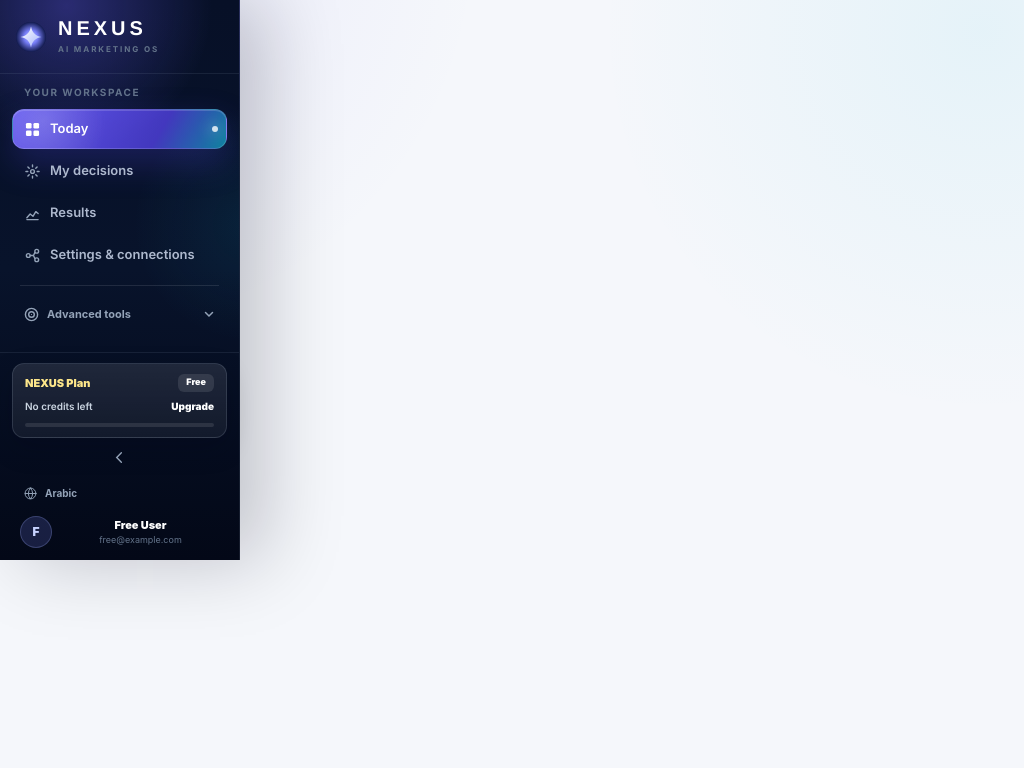
Sidebar credit presentation › keeps owner decisions primary and specialist workflows behind a disclosure
Expected: the text "Today" is shown, top-left (50, 120), bottom-right (88, 136)
Expected: the text "My decisions" is shown, top-left (50, 162), bottom-right (133, 178)
Click the button "Advanced tools" at (120, 314), box top-left (12, 296), bottom-right (227, 332)
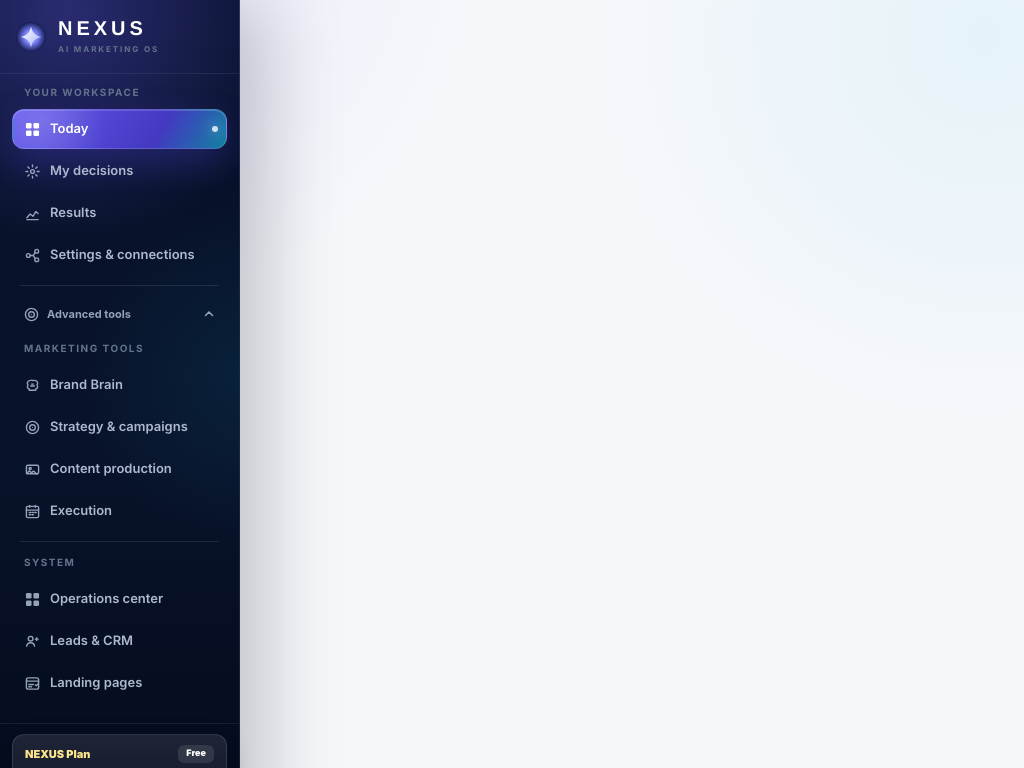
Expected: the text "Brand Brain" is shown, top-left (50, 376), bottom-right (123, 392)
Expected: the text "Strategy & campaigns" is shown, top-left (50, 418), bottom-right (188, 434)
Expected: the text "Content production" is shown, top-left (50, 460), bottom-right (172, 476)
